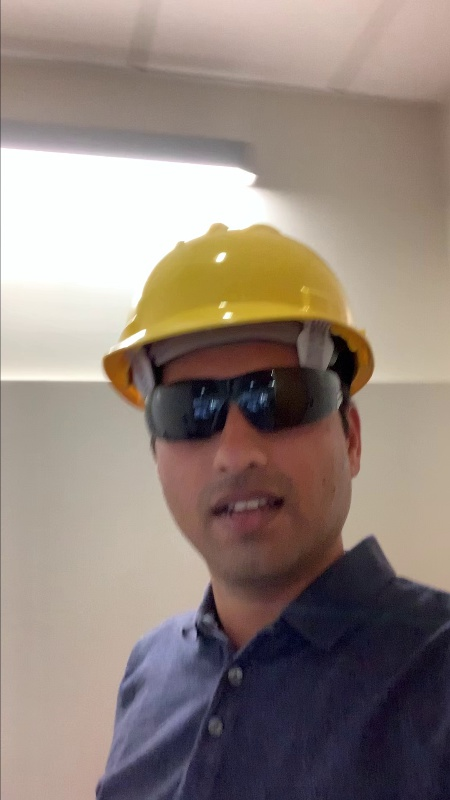glasses: (141, 365, 347, 445)
helmet: (108, 219, 374, 375)
